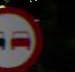No overtake: (0, 5, 55, 68)
